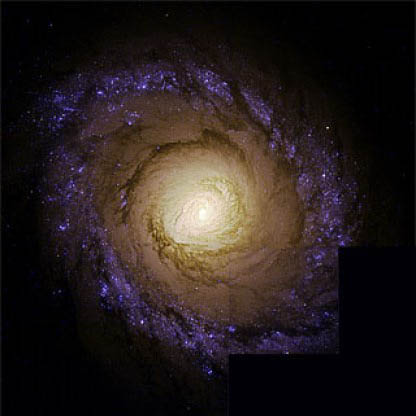Messier 94: (39, 43, 369, 371)
